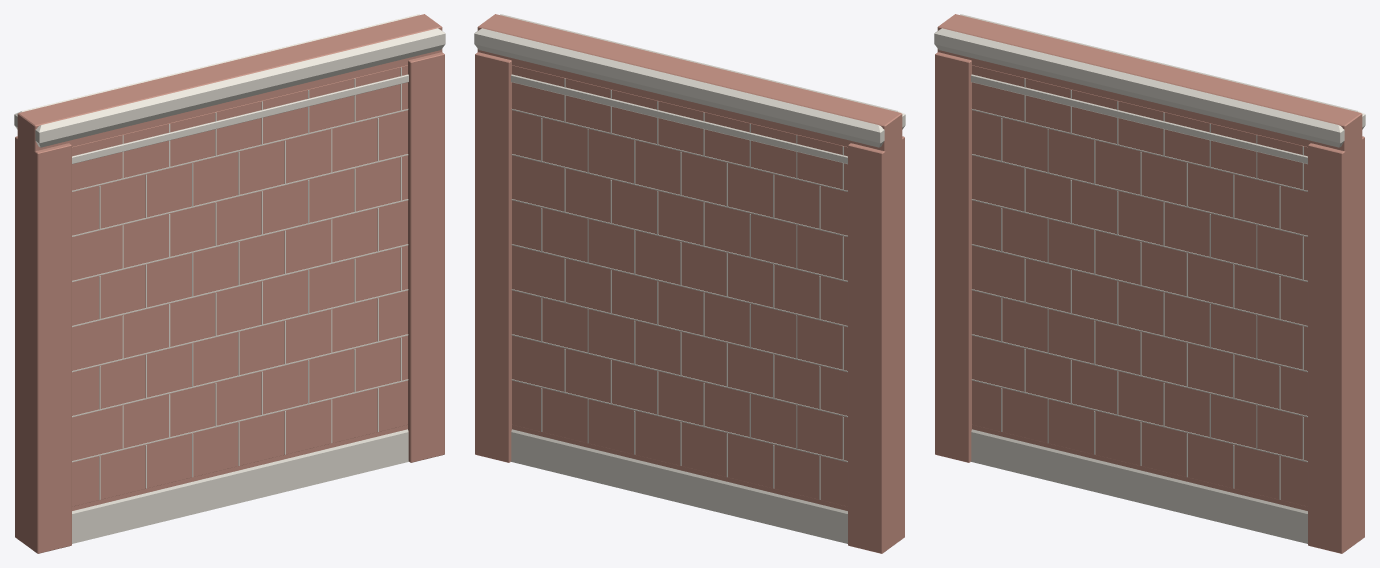
The picture shows the model from 3 angles, left to right: view 1: azimuth 30°, elevation 25°; view 2: azimuth 150°, elevation 25°; view 3: azimuth 330°, elevation 25°; orthographic projection.
Visible parts, largest first — view 1: brick-wall-module; view 2: brick-wall-module; view 3: brick-wall-module.
Boxes of the visible parts, left/top/right/bottom form: brick-wall-module: left=14, top=14, right=445, bottom=553; brick-wall-module: left=474, top=14, right=905, bottom=553; brick-wall-module: left=934, top=14, right=1365, bottom=553.
Bounding box in the file's own units: 4 × 4 × 0.4277.
